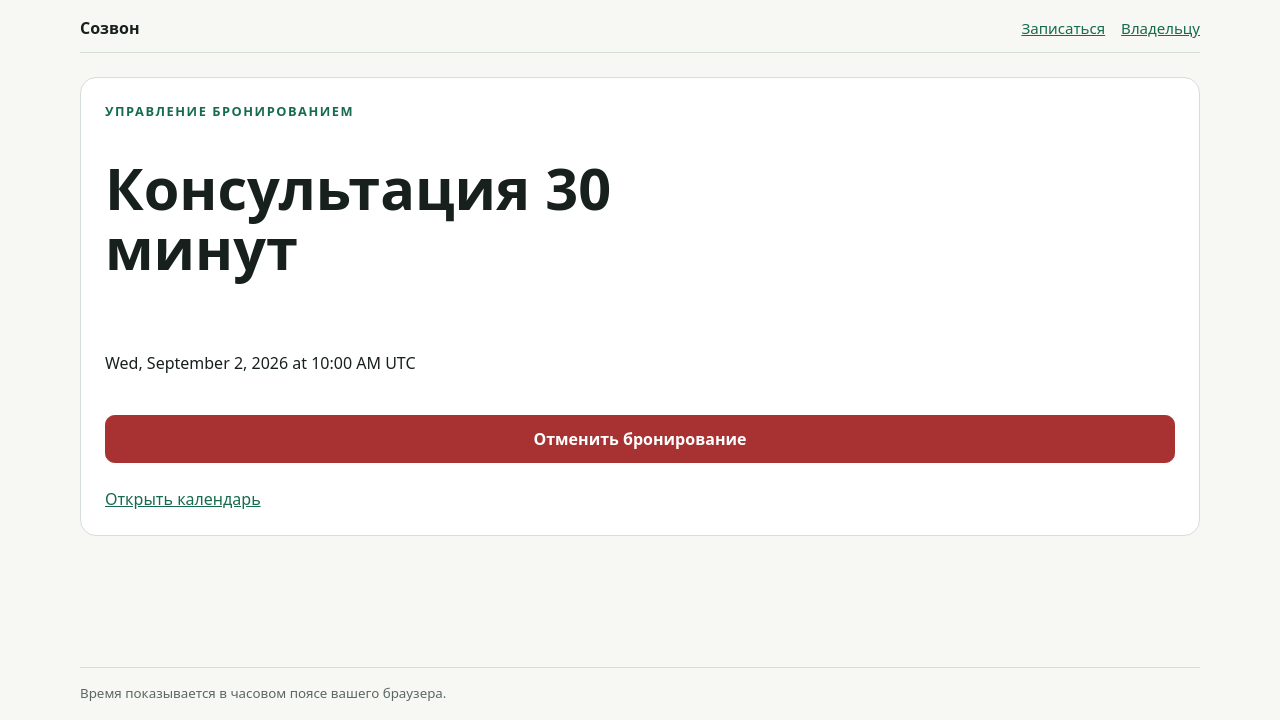
Scenario: ключевые сценарии на contract mock › отменяет только с токеном из fragment и показывает повторную отмену
The width and height of the screenshot is (1280, 720).
Click the button "Отменить бронирование" at [640, 439], box [105, 415, 1175, 463]
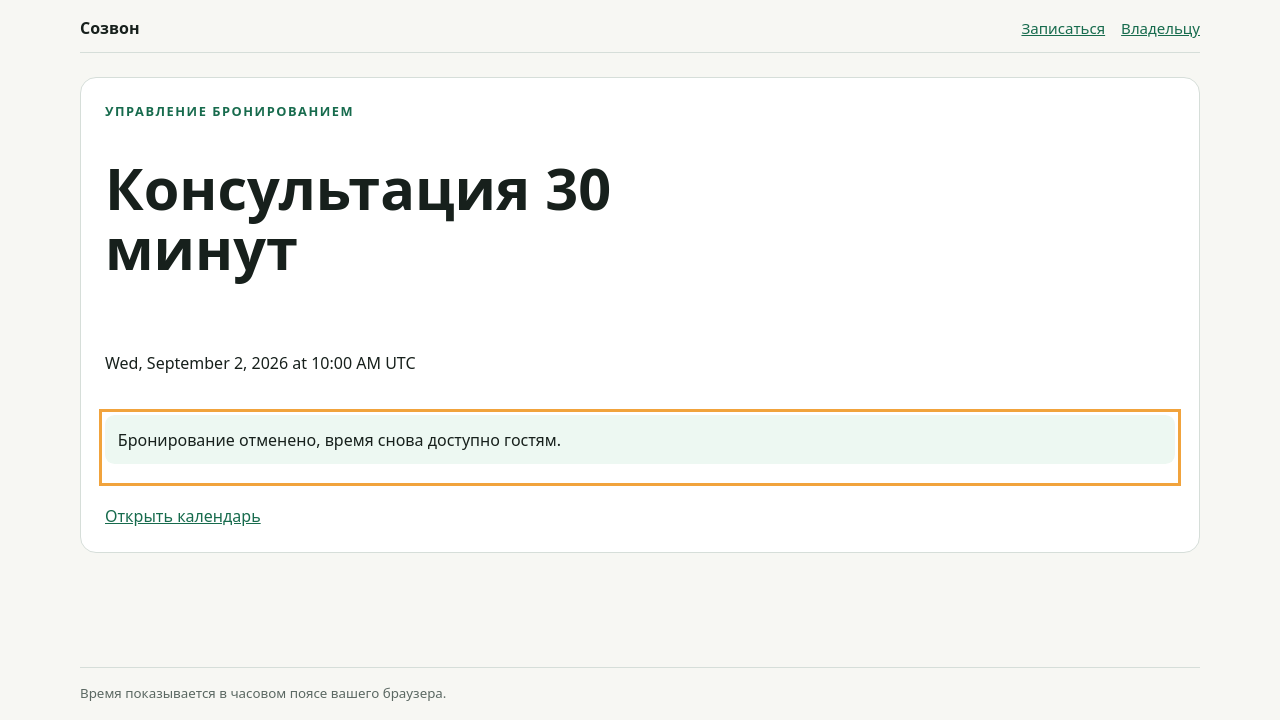
Check: the text "Бронирование отменено, время снова доступно гостям." is shown, box [105, 415, 1175, 464]
Check: the button "Отменить бронирование" is gone
